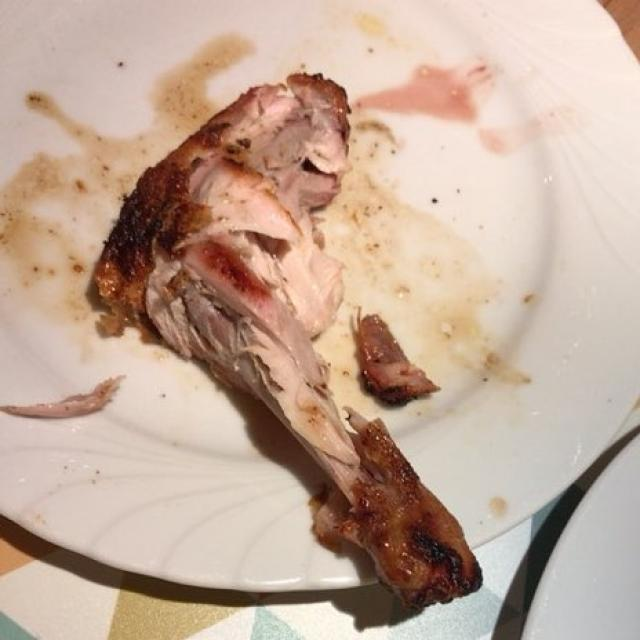chicken-leg: (103, 79, 348, 468)
